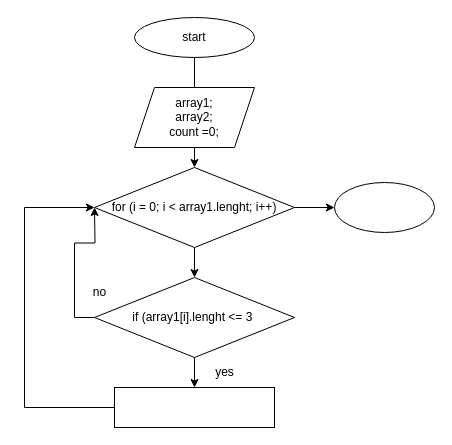
Image size: 452x445. Some labels were removed from this diagram. The centre of each missing label's shape, as x and y in pixels:
"array2[count] = array1[i]; count++" belongs at pixel 194 407.
"end" belongs at pixel 384 207.
